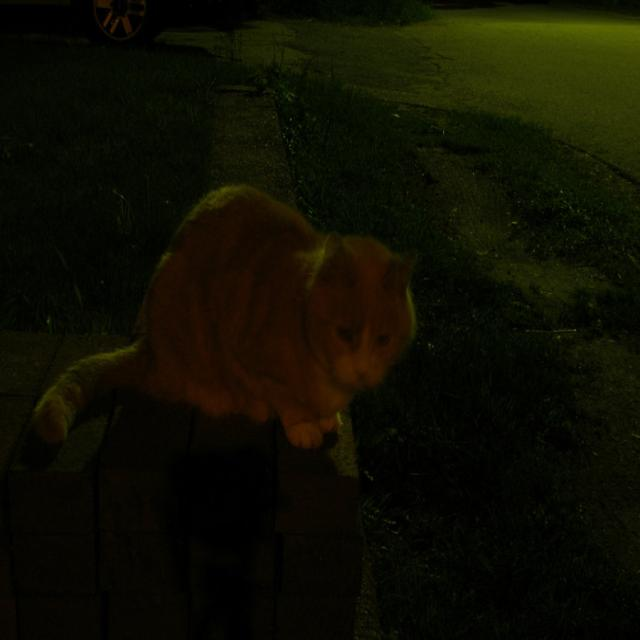Cat: (28, 171, 421, 484)
